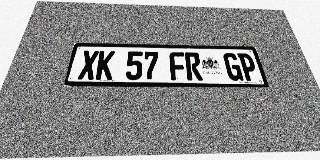5: (126, 51, 143, 80)
7: (143, 51, 159, 80)
F: (169, 52, 187, 80)
G: (223, 53, 244, 81)
K: (95, 51, 115, 80)
P: (237, 53, 259, 81)
R: (184, 52, 203, 80)
X: (77, 50, 99, 80)
